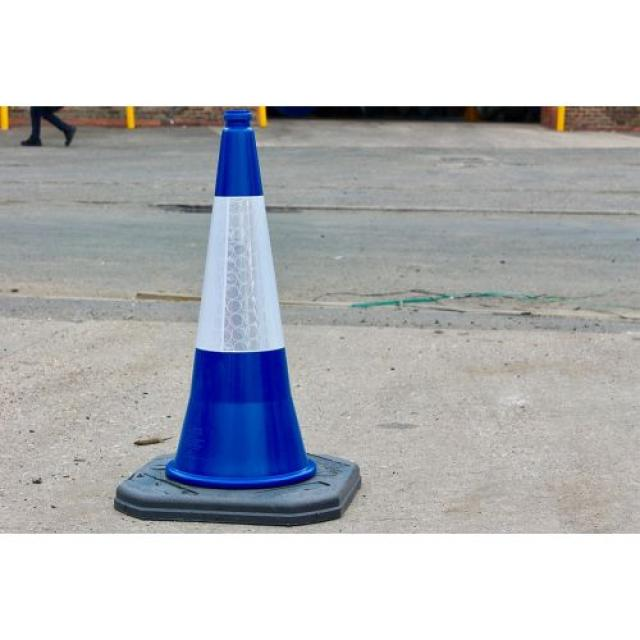Traffic Cone: (101, 106, 404, 539)
